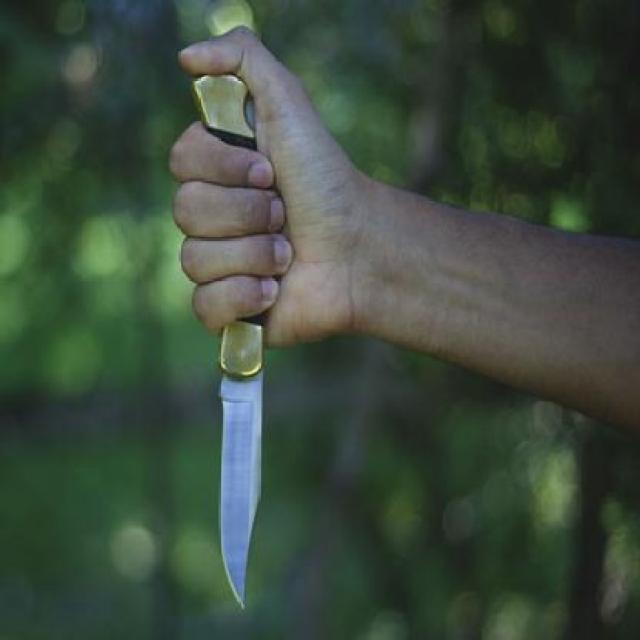-: (163, 177, 299, 623)
